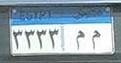3: (49, 28, 61, 50), (24, 29, 35, 49), (37, 29, 47, 49), (13, 29, 23, 49)
meem: (74, 30, 87, 51), (91, 30, 101, 49)
